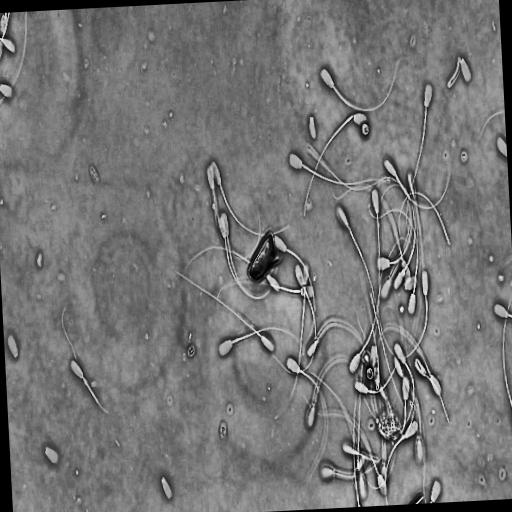coiled-tail: (416, 358, 449, 422), (447, 57, 461, 87), (417, 362, 424, 374)
dirt-particles: (244, 226, 278, 288), (376, 404, 403, 442), (361, 122, 370, 138)
folded-tail: (60, 301, 111, 420), (304, 114, 355, 216), (368, 205, 418, 292), (359, 271, 381, 392), (361, 276, 379, 390)
loose-head: (40, 439, 61, 471), (5, 327, 22, 364), (156, 471, 174, 504), (305, 111, 317, 145)
loose-tail: (396, 188, 453, 251), (353, 328, 403, 395)
normal: (167, 262, 276, 356), (302, 109, 370, 223), (206, 156, 297, 239), (333, 201, 384, 337), (367, 201, 420, 318), (284, 353, 329, 487), (272, 232, 317, 357), (404, 79, 435, 260), (61, 299, 109, 414), (272, 264, 317, 378), (217, 210, 273, 301), (375, 268, 429, 362), (318, 58, 402, 115), (382, 151, 453, 213), (285, 149, 395, 187), (320, 432, 390, 484), (348, 271, 381, 376), (376, 182, 412, 272), (216, 324, 305, 360), (384, 419, 419, 505), (413, 356, 450, 425), (394, 181, 417, 291), (389, 340, 415, 434), (360, 271, 380, 392), (368, 184, 381, 360), (500, 288, 512, 419), (447, 54, 473, 90)
proximal-droplet: (400, 434, 405, 441), (404, 263, 408, 271)
